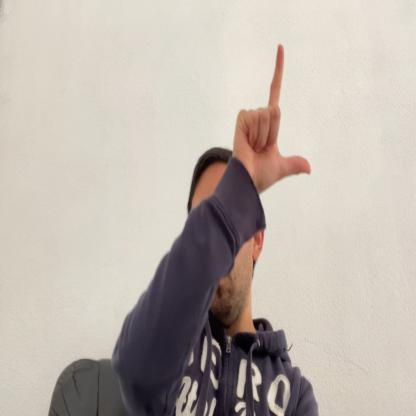L: (233, 43, 311, 191)
